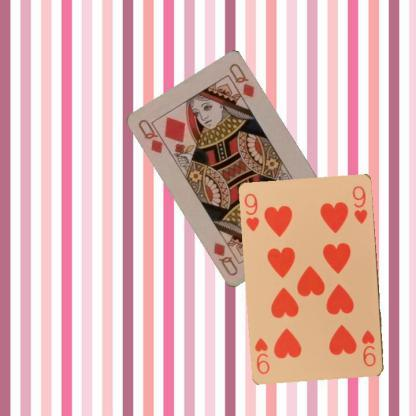9h: (242, 191, 262, 233), (360, 327, 378, 368)
Qd: (136, 117, 172, 155)
